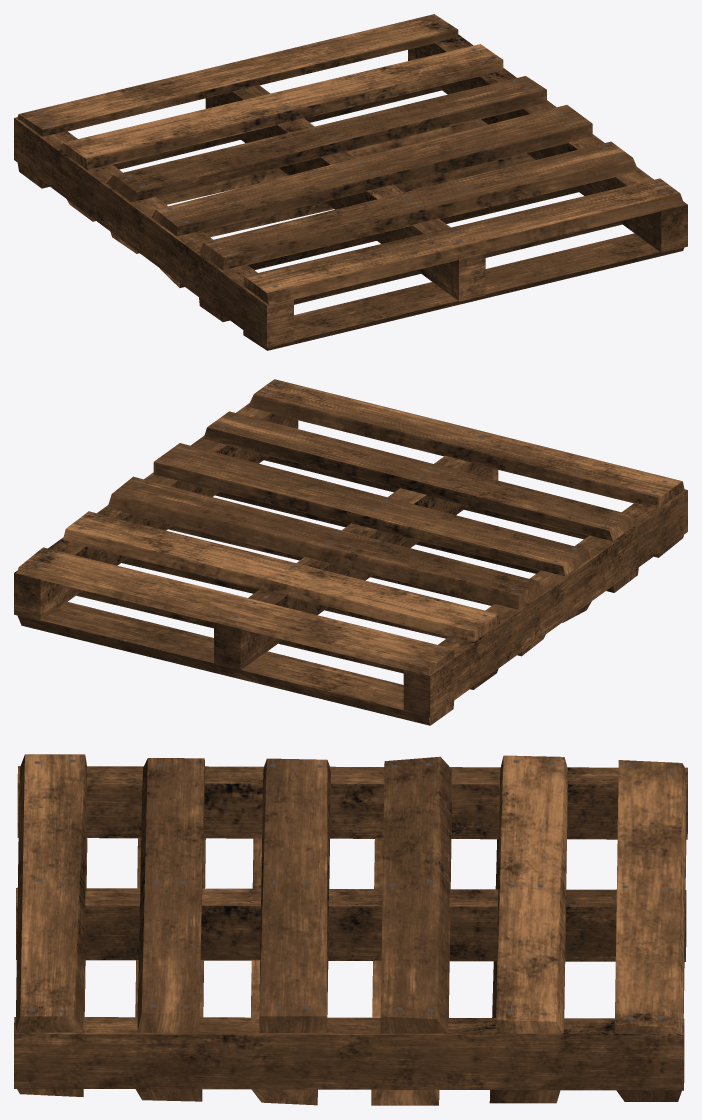
File: pallet.glb
3 views of the same model, one above another, from view 1: azimuth 30°, elevation 25°; view 2: azimuth 150°, elevation 25°; view 3: azimuth 270°, elevation 25° (orthographic). The views are drawn at different scales.
Size of the model in its own units: 122 by 18.78 by 129.
1 material, 1 textured.
